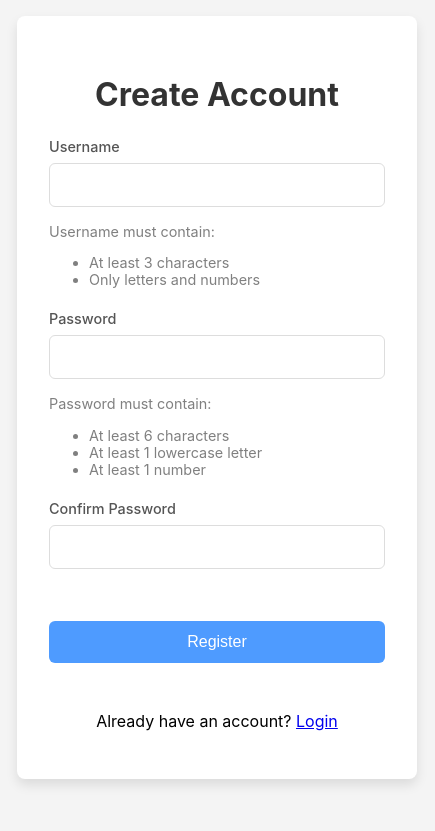
Test case: Register page tests › should show error if passwords do not match
Type "validuser" into the field labelled "Username" at (217,184), box top-left (49, 162), bottom-right (385, 206)
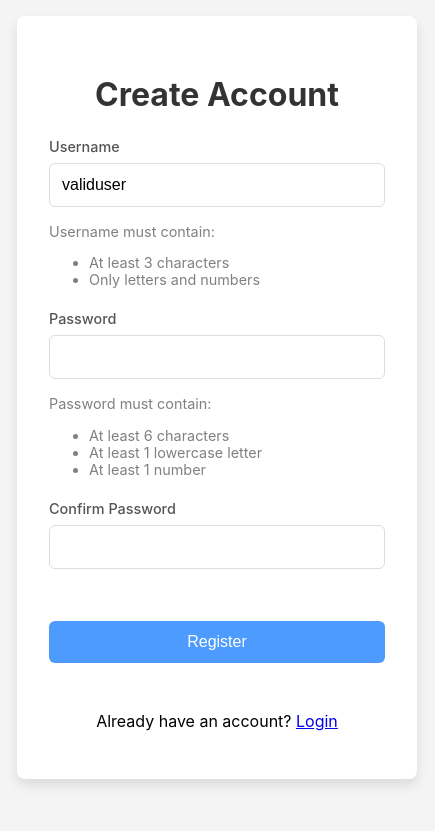
Type "Password123!" into the password field with test id "password" at (217,357), box top-left (49, 335), bottom-right (385, 379)
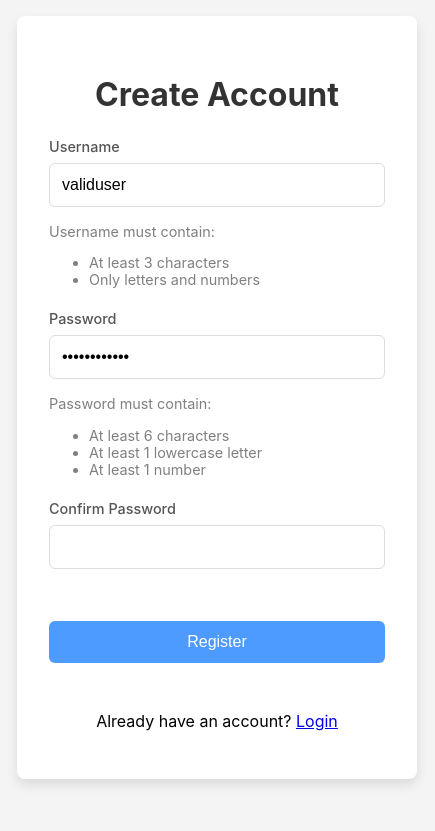
Type "Password456!" into the password field labelled "Confirm Password" at (217,547), box top-left (49, 525), bottom-right (385, 569)
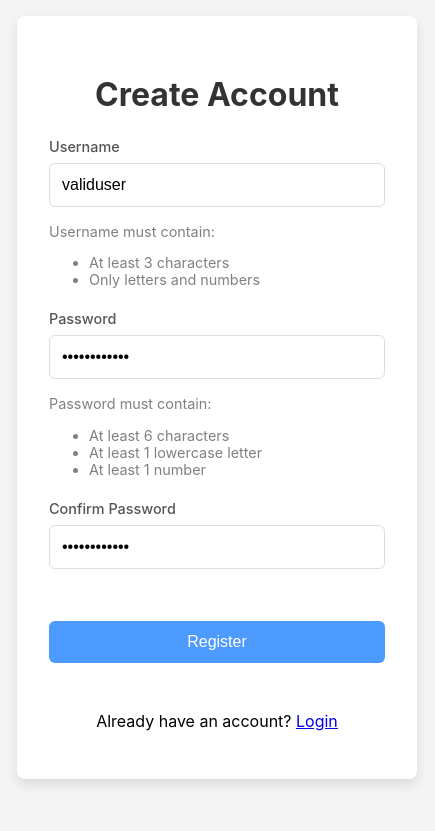
Click the button "Register" at (217,642), box top-left (49, 621), bottom-right (385, 663)
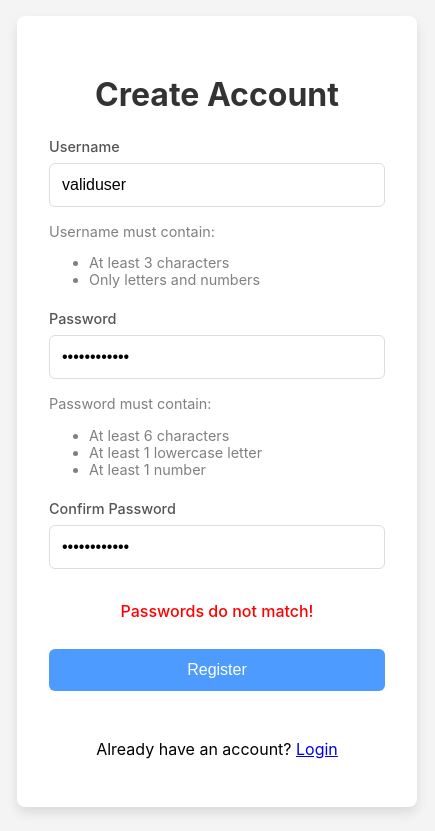
expect the text "Passwords do not match!" is shown: met, box top-left (120, 601), bottom-right (314, 621)
